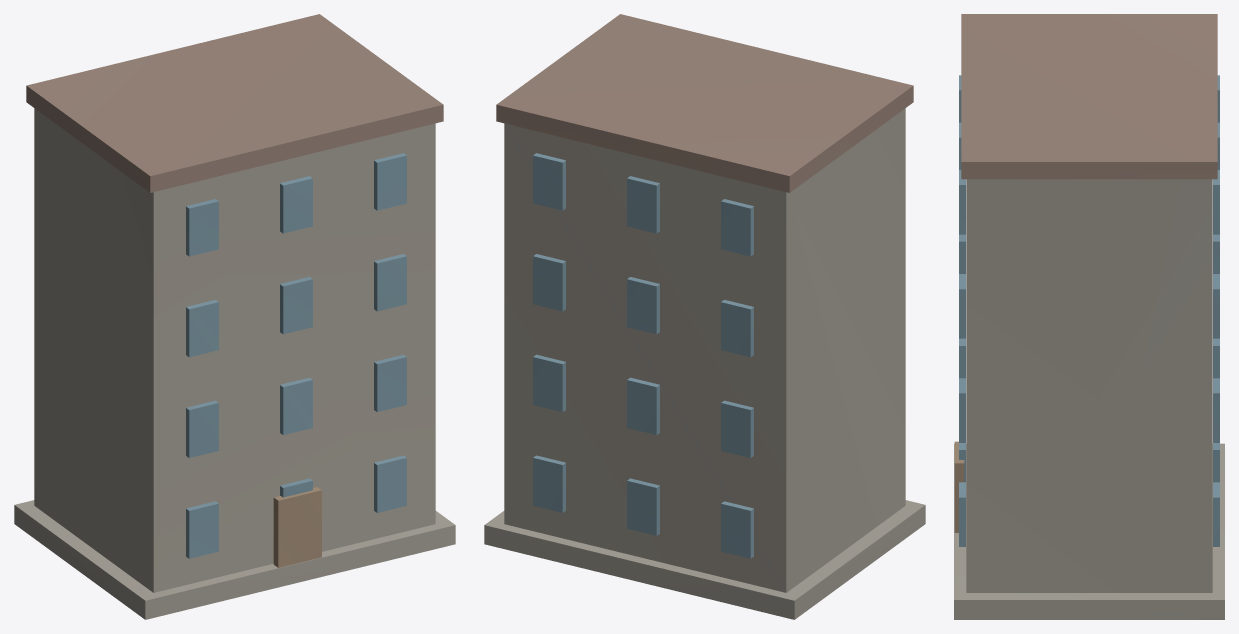
Rendered from apartment-01.glb.
The picture shows the model from 3 angles, left to right: view 1: azimuth 30°, elevation 25°; view 2: azimuth 150°, elevation 25°; view 3: azimuth 270°, elevation 25°; orthographic projection. The views are drawn at different scales.
Visible parts, largest first — view 1: world; view 2: world; view 3: world.
Part boxes in pixels (<box>): world: <box>14,14,455,619</box>; world: <box>484,14,925,619</box>; world: <box>954,14,1224,619</box>.
Bounding box in the file's own units: 1.35 × 1.83 × 0.99.
